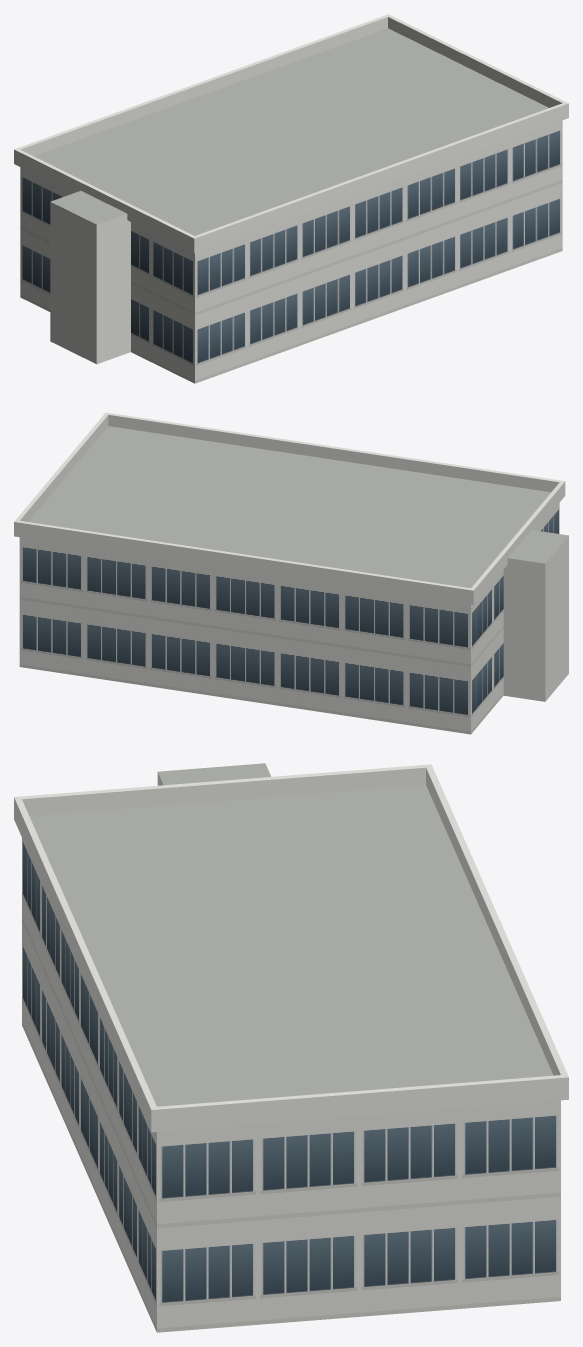
File: nanjie_jiaoshi.glb
3 views of the same model, one above another, from view 1: azimuth 30°, elevation 25°; view 2: azimuth 150°, elevation 25°; view 3: azimuth 270°, elevation 25° (orthographic). The views are drawn at different scales.
Visible parts, largest first — view 1: 南阶教室; view 2: 南阶教室; view 3: 南阶教室.
Part boxes in pixels (box(x1,y1,x2,y2)): 南阶教室: box(14, 14, 568, 383); 南阶教室: box(14, 412, 568, 734); 南阶教室: box(14, 763, 568, 1332).
Bounding box in the file's own units: 31.03 × 9.1 × 20.26.
Materials: 3 (1 with a texture image).
